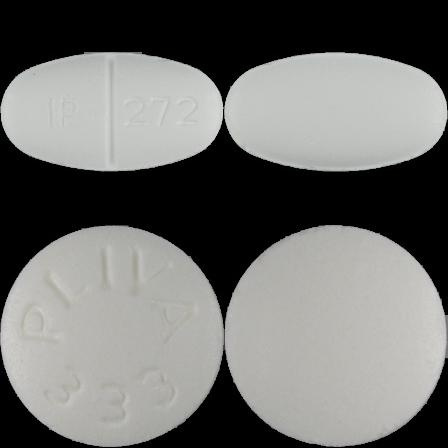64205-272: (0, 0, 224, 224)
